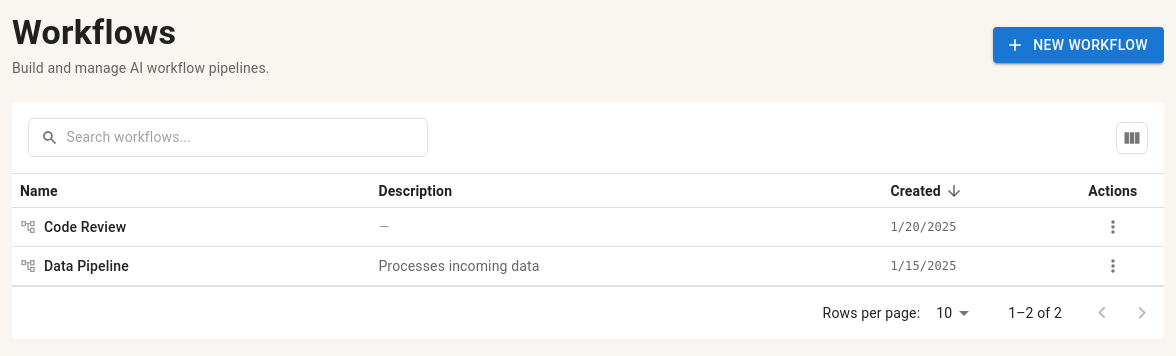
Test case: WorkflowsPage › shows text field when "New Workflow" is clicked
What coordinates should you click on to do the following:
click the button "New Workflow"
I would click on:
 (1079, 45)
Its box is top-left (993, 27), bottom-right (1164, 63).
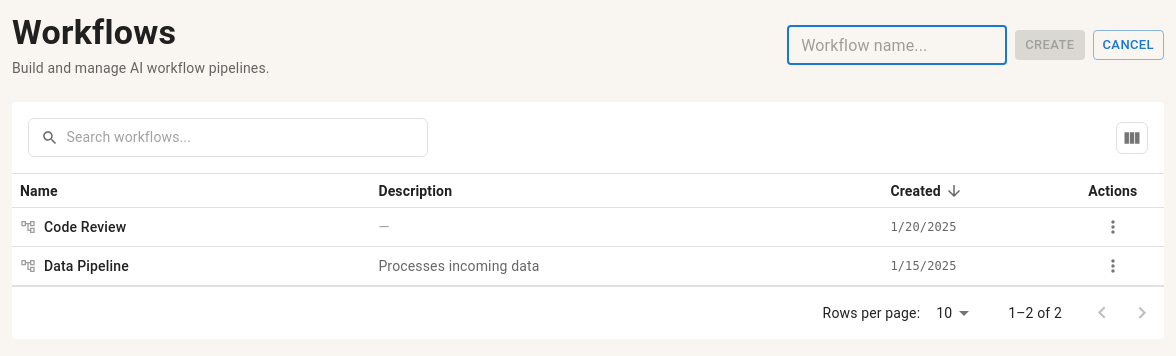
Result: the field with placeholder "Workflow name..." is shown at top-left (787, 25), bottom-right (1007, 65)
Result: the button "Create" is shown at top-left (1015, 30), bottom-right (1084, 60)
Result: the button "Cancel" is shown at top-left (1092, 30), bottom-right (1164, 60)
